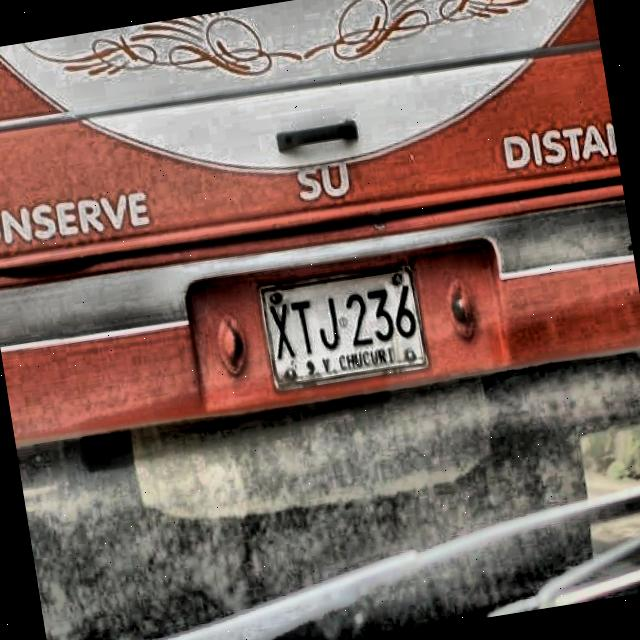plate: (261, 267, 428, 388)
